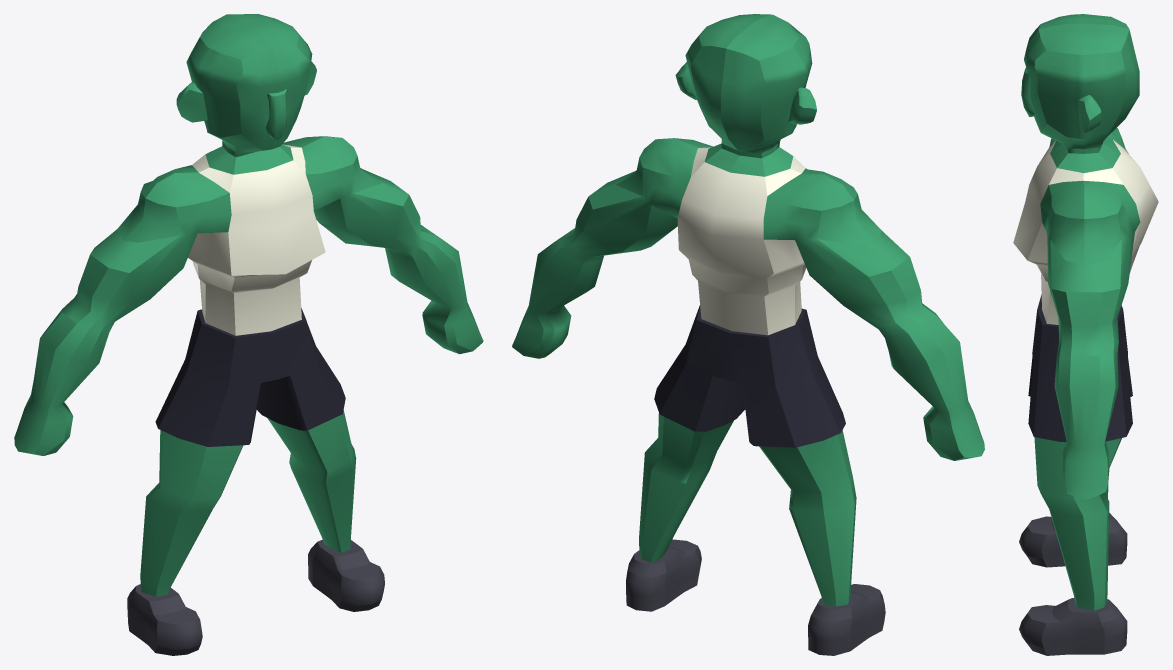
The model's file is BruteEnemy_Model.fbx.
3 views of the same model, side by side, from view 1: azimuth 30°, elevation 25°; view 2: azimuth 150°, elevation 25°; view 3: azimuth 270°, elevation 25° (orthographic). The views are drawn at different scales.
Parts seen in each view (by area): view 1: pCube7; view 2: pCube7; view 3: pCube7.
Boxes of the visible parts, x1,y1,x2,y2 form: pCube7: (14,14,483,655); pCube7: (512,14,984,655); pCube7: (1013,14,1158,655).
Size of the model in its own units: 3.48 by 4.22 by 0.9637.
